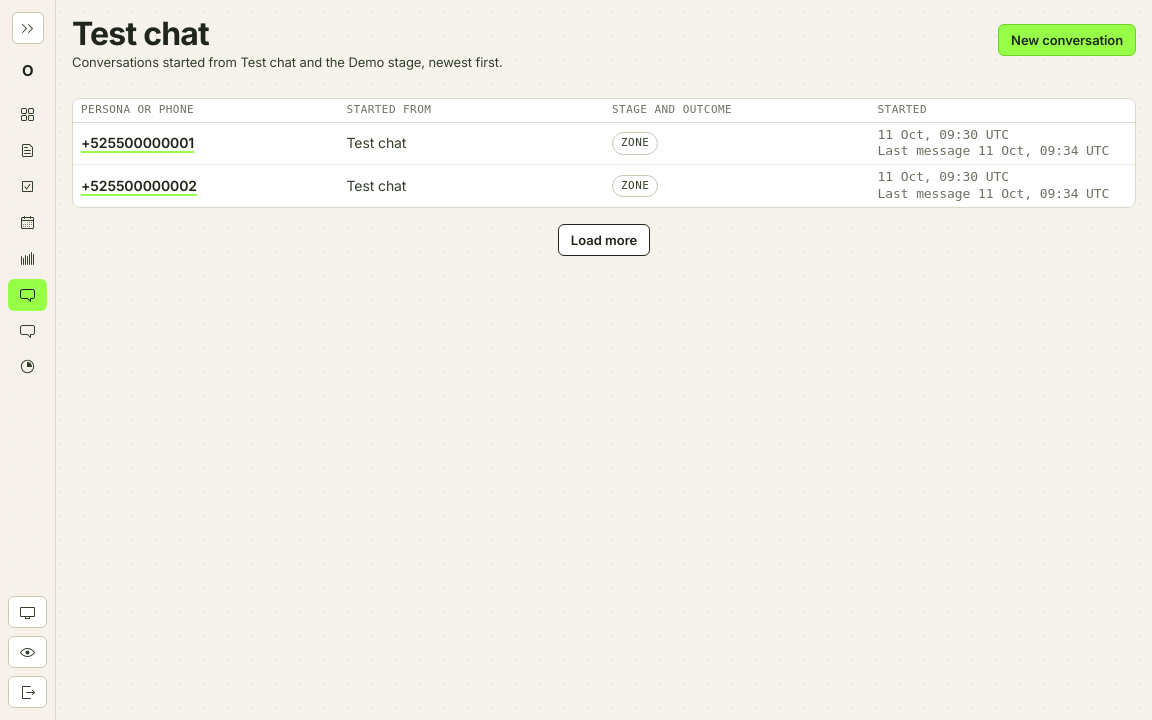
Test: CH4 the list › shows Load more while there is a next page, asks for it by cursor and appends its rows
Click the button "Load more": (604, 240) [558,224,650,256]
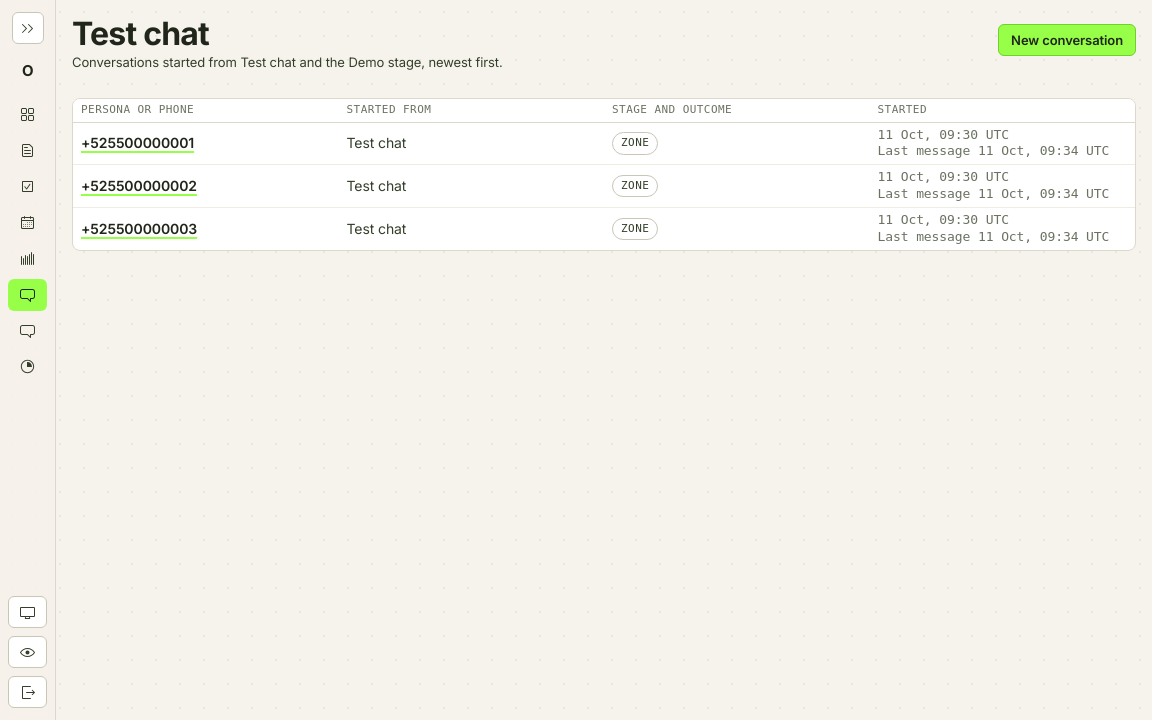
Expected: the link "+525500000003" is shown, [81,220,197,237]
Expected: the button "Load more" is gone
